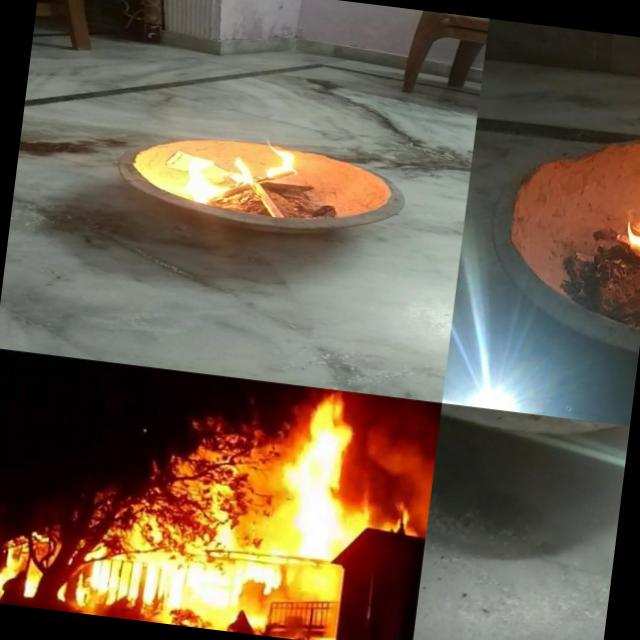fire: (255, 383, 372, 574), (150, 126, 317, 220), (602, 172, 640, 314), (353, 486, 422, 536), (0, 529, 36, 606)
